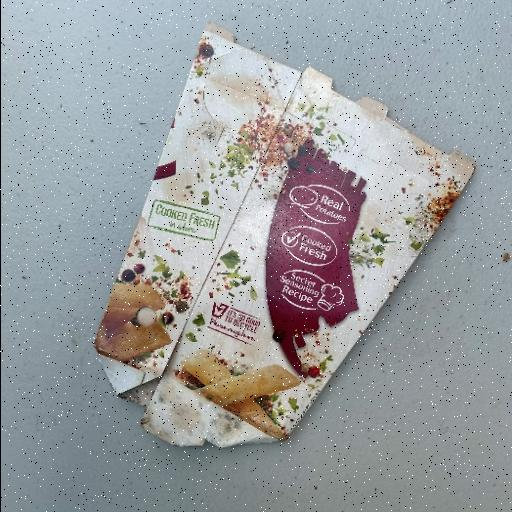Cardboard: (92, 22, 476, 450)
